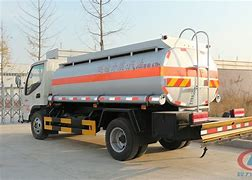oil truck: (21, 26, 245, 161)
